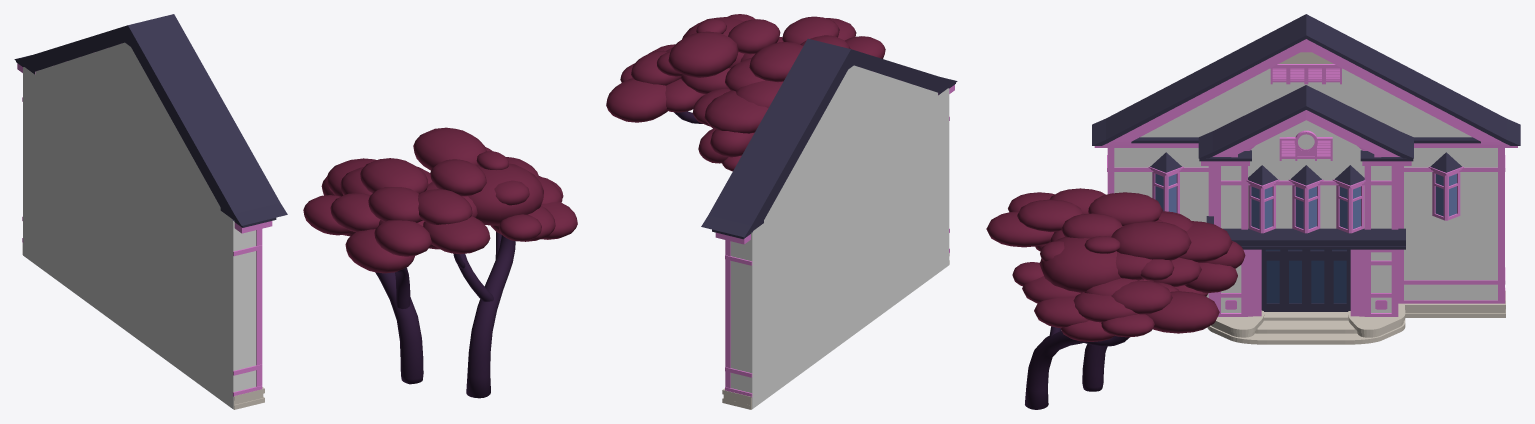
File: AuditoriumFacade.fbx
3 views of the same model, side by side, from view 1: azimuth 30°, elevation 25°; view 2: azimuth 150°, elevation 25°; view 3: azimuth 270°, elevation 25° (orthographic). The views are drawn at different scales.
Parts seen in each view (by area): view 1: AuditoriumFacadeMain, Tree1; view 2: AuditoriumFacadeMain, Tree1; view 3: AuditoriumFacadeMain, Tree1, AuditoriumFacadeDoor.
Part boxes in pixels (x1,y1,x2,y2): AuditoriumFacadeMain: [14, 14, 287, 409]; Tree1: [303, 127, 577, 398]; AuditoriumFacadeMain: [701, 38, 957, 409]; Tree1: [606, 14, 885, 171]; AuditoriumFacadeMain: [1092, 14, 1520, 344]; Tree1: [986, 188, 1245, 409]; AuditoriumFacadeDoor: [1307, 254, 1328, 311].
Size of the model in its own units: 2416 by 2161 by 3538.
